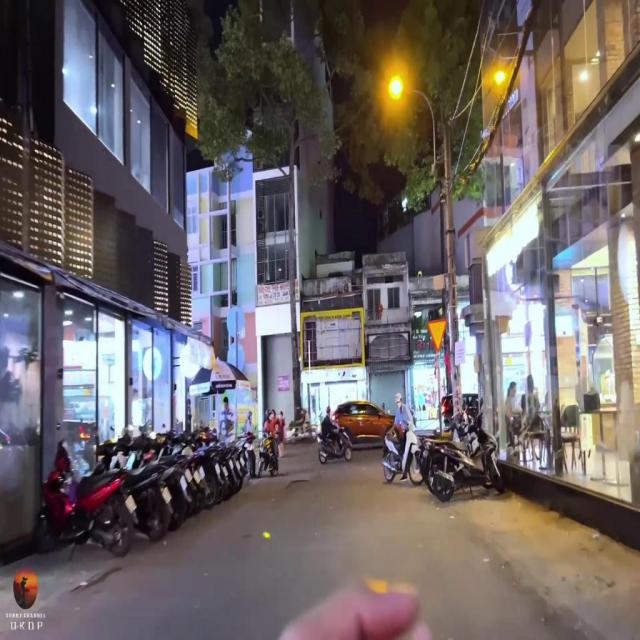giao_nhau_voi_duong_uu_tien: (427, 320, 448, 352)
